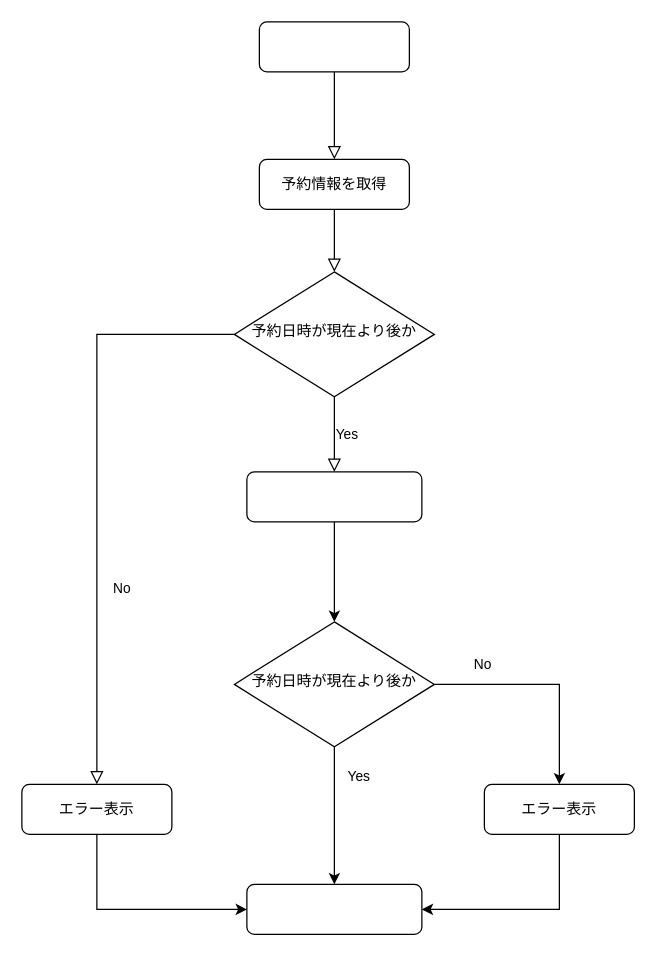
The diagram is 656 pixels wide and 956 high, and some of its shapes have lost their labels. Each missing label, with the box of its shape:
予約終了: (246, 883, 422, 934)
予約開始: (258, 21, 409, 72)
店舗の営業時間を取得: (246, 471, 422, 522)
